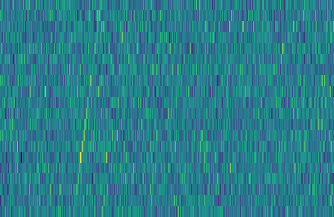signal: (67, 0, 105, 217)
